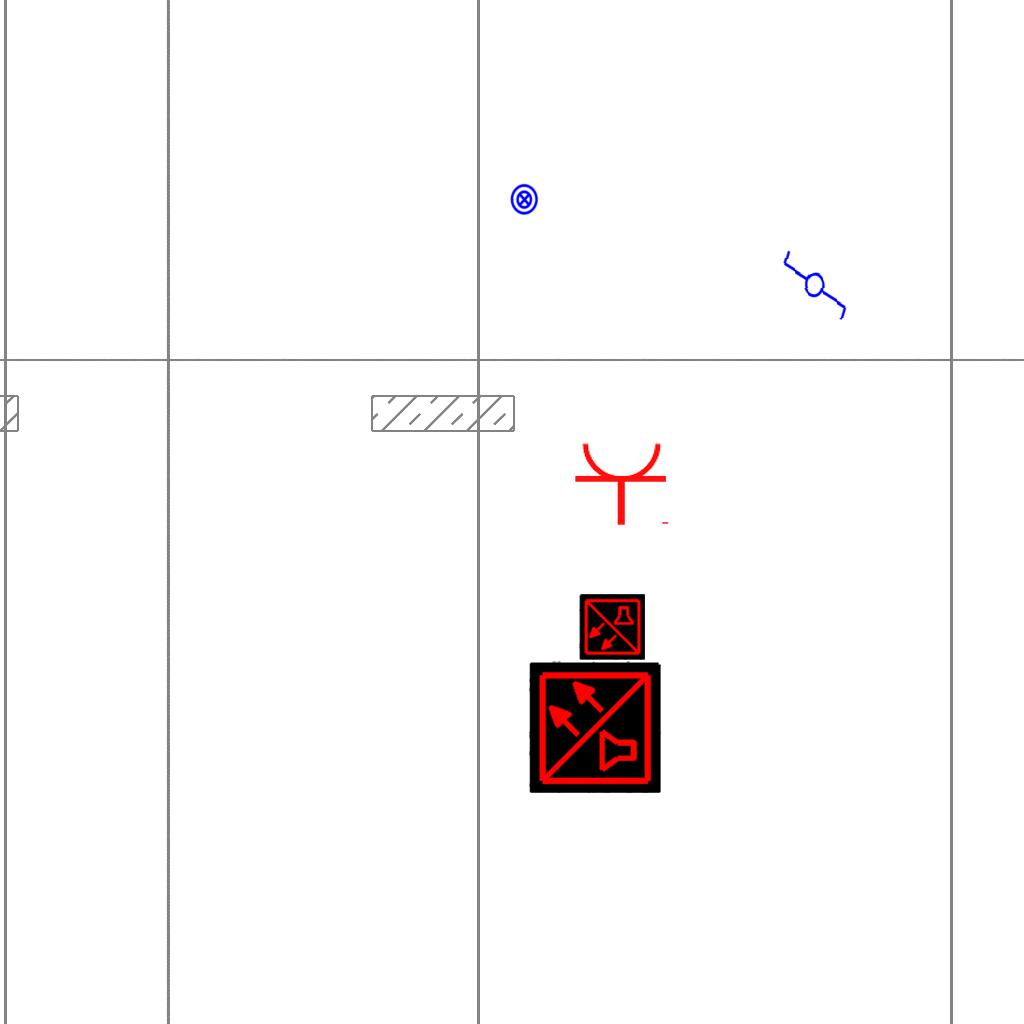OKW_Multisensormelder_(Kombination_optischer_Rauch-Kahlenmonoxid_Waerme-Melder): (529, 661, 661, 793), (579, 594, 645, 660)
Schukosteckdose_einfach: (573, 440, 673, 527)
Taster_beleuchtet: (508, 183, 541, 216)
Wechselschalter: (777, 239, 855, 323)
